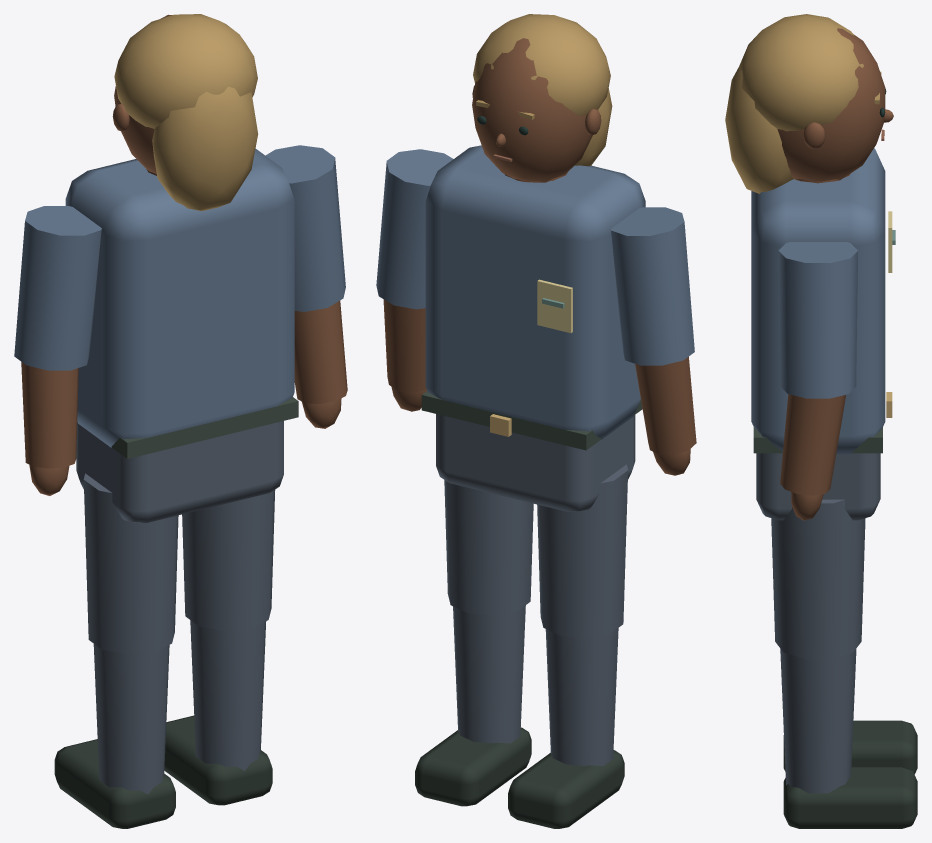
File: scout-11.glb
The picture shows the model from 3 angles, left to right: view 1: azimuth 30°, elevation 25°; view 2: azimuth 150°, elevation 25°; view 3: azimuth 270°, elevation 25°; orthographic projection. The views are drawn at different scales.
Parts seen in each view (by area): view 1: Scout character 11, left-upper-arm, right-upper-arm; view 2: Scout character 11, left-upper-arm, right-upper-arm; view 3: Scout character 11, right-upper-arm.
Part boxes in pixels (x1,y1,x2,y2): Scout character 11: (54, 14, 298, 828); left-upper-arm: (14, 206, 101, 495); right-upper-arm: (265, 145, 347, 428); Scout character 11: (415, 14, 645, 828); left-upper-arm: (610, 207, 696, 475); right-upper-arm: (376, 149, 453, 411); Scout character 11: (725, 14, 917, 828); right-upper-arm: (778, 242, 857, 520).
Size of the model in its own units: 0.7284 by 1.72 by 0.3875.
